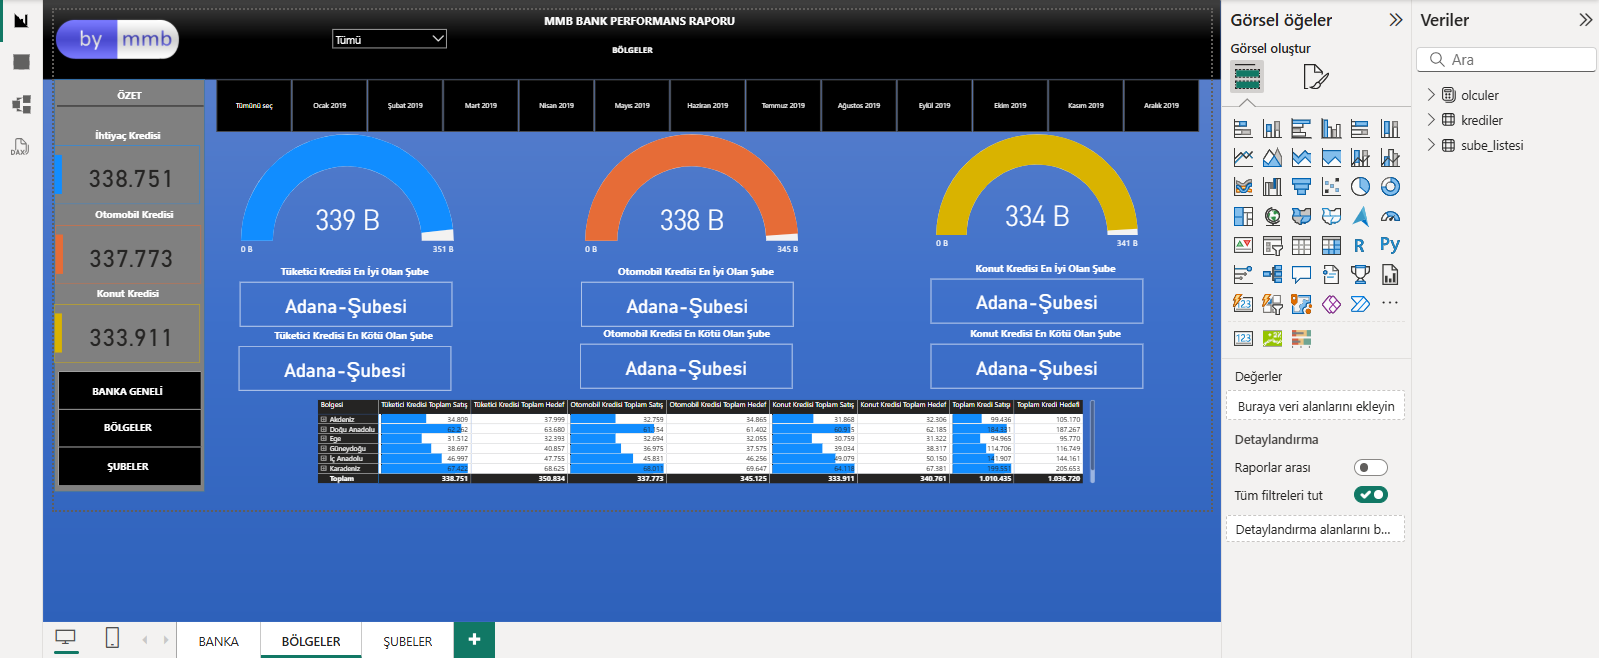

What the dashboard file says about the page in this screenshot:
{"tool":"powerbi","page":{"name":"BÖLGELER","canvas":[2200,950],"ordinal":1},"visuals":[{"type":"textbox","box":[909.8,0,406.4,46.6],"z":0},{"type":"textbox","box":[1719.8,473,332.2,37.3],"z":0,"group":"g9"},{"type":"textbox","box":[406.3,478.4,332.2,37.3],"z":0,"group":"g4"},{"type":"textbox","box":[1054.9,478.4,332.2,37.3],"z":0,"group":"g7"},{"type":"textbox","box":[1001.6,597.1,401.2,37.4],"z":0,"group":"g6"},{"type":"textbox","box":[1719.8,597.3,332.2,37.3],"z":0,"group":"g8"},{"type":"textbox","box":[403.6,600,332.2,37.3],"z":0,"group":"g5"},{"type":"textbox","box":[1029.1,59.7,143.6,33.6],"z":1000},{"type":"card","fields":{"Values":["Min(sube_listesi.Sube Adı)"]},"box":[1667.6,509.9,403.8,85.1],"z":1000,"group":"g9"},{"type":"card","fields":{"Values":["Min(sube_listesi.Sube Adı)"]},"box":[354.1,515.3,403.8,85.1],"z":1000,"group":"g4"},{"type":"card","fields":{"Values":["Min(sube_listesi.Sube Adı)"]},"box":[1002.7,515.3,403.8,85.1],"z":1000,"group":"g7"},{"type":"card","fields":{"Values":["Min(sube_listesi.Sube Adı)"]},"box":[1000,634.2,403.8,85.1],"z":1000,"group":"g6"},{"type":"card","fields":{"Values":["Min(sube_listesi.Sube Adı)"]},"box":[1667.6,634.2,403.8,85.1],"z":1000,"group":"g8"},{"type":"card","fields":{"Values":["Min(sube_listesi.Sube Adı)"]},"box":[351.4,636.9,403.8,85.1],"z":1000,"group":"g5"},{"type":"shape","box":[0,131,286.5,818.7],"z":2000},{"type":"textbox","box":[93.4,143.4,100,38.3],"z":3000},{"type":"shape","box":[5.1,176.3,278,13.6],"z":4000},{"type":"group","id":"g1","title":"Grup 1","box":[0,220.3,278,150.8],"z":5000},{"type":"shape","box":[0,257.6,277.8,111.9],"z":5000,"group":"g1"},{"type":"shape","box":[1.7,408.5,277.8,111.9],"z":5000,"group":"g3"},{"type":"shape","box":[0,557.6,277.8,111.9],"z":5000,"group":"g2"},{"type":"shape","box":[1.9,276.2,13.1,74.6],"z":6000,"group":"g1"},{"type":"shape","box":[3.6,427,13.1,74.6],"z":6000,"group":"g3"},{"type":"group","id":"g2","title":"Grup 2","box":[0,520.3,278,150.8],"z":6000},{"type":"shape","box":[1.9,576.2,13.1,74.6],"z":6000,"group":"g2"},{"type":"textbox","box":[63.4,220.3,152.9,37.3],"z":7000,"group":"g1"},{"type":"group","id":"g3","title":"Grup 3","box":[1.7,370.9,277.8,149.5],"z":7000},{"type":"textbox","box":[66.6,370.9,169.5,37.3],"z":7000,"group":"g3"},{"type":"textbox","box":[63.4,520.3,152.9,37.3],"z":7000,"group":"g2"},{"type":"shape","box":[7.5,686.1,272.2,72.7],"z":8000},{"type":"shape","box":[7.5,758.8,272.2,72.7],"z":9000},{"type":"shape","box":[7.5,831.5,272.2,74.6],"z":10000},{"type":"textbox","box":[67.1,706.6,152.9,35.4],"z":11000},{"type":"textbox","box":[63.4,777.4,152.9,35.4],"z":12000},{"type":"textbox","box":[63.4,850.1,152.9,39.2],"z":13000},{"type":"slicer","fields":{"Values":["krediler.Ay"]},"box":[282.8,124.8,1917.2,113.1],"z":14000},{"type":"card","fields":{"Values":["olculer.Tüketici Kredisi Toplam Satış"]},"box":[25.4,264.4,242.4,101.7],"z":15000},{"type":"card","fields":{"Values":["olculer.Konut Kredisi Toplam Satış"]},"box":[25.4,566.1,242.4,101.7],"z":16000},{"type":"card","fields":{"Values":["olculer.Otomobil Kredisi Toplam Satış"]},"box":[25.4,415.3,242.4,101.7],"z":17000},{"type":"slicer","fields":{"Values":["sube_listesi.Bolgesi"]},"box":[519.7,25.4,237.2,50.7],"z":18000},{"type":"gauge","fields":{"Y":["olculer.Tüketici Kredisi Toplam Satış"],"MaxValue":["olculer.Tüketici Kredisi Toplam Hedef"]},"box":[321.6,232.4,473,243.2],"z":19000},{"type":"gauge","fields":{"Y":["olculer.Otomobil Kredisi Toplam Satış"],"MaxValue":["olculer.Otomobil Kredisi Toplam Hedef"]},"box":[973,232.4,481.1,243.2],"z":20000},{"type":"gauge","fields":{"Y":["olculer.Konut Kredisi Toplam Satış"],"MaxValue":["olculer.Konut Kredisi Toplam Hedef"]},"box":[1646,232.4,448.7,232.4],"z":21000},{"type":"group","id":"g4","title":"Grup 4","box":[354.1,478.4,402.7,121.6],"z":22000},{"type":"group","id":"g5","title":"Grup 4","box":[351.4,600,405.4,124.3],"z":23000},{"type":"group","id":"g6","title":"Grup 4","box":[1000,597.1,403.8,122.2],"z":24000},{"type":"group","id":"g7","title":"Grup 4","box":[1002.7,478.4,402.7,121.6],"z":25000},{"type":"group","id":"g8","title":"Grup 4","box":[1667.6,597.3,402.7,124.3],"z":26000},{"type":"group","id":"g9","title":"Grup 4","box":[1667.6,473,405.4,121.6],"z":27000},{"type":"pivotTable","fields":{"Rows":["sube_listesi.Bolgesi","sube_listesi.Sube Adı"],"Values":["olculer.Tüketici Kredisi Toplam Satış","olculer.Tüketici Kredisi Toplam Hedef","olculer.Otomobil Kredisi Toplam Satış","olculer.Otomobil Kredisi Toplam Hedef","olculer.Konut Kredisi Toplam Satış","olculer.Konut Kredisi Toplam Hedef","olculer.Toplam Kredi Satışı","olculer.Toplam Kredi  Hedefi"]},"box":[497.9,737.3,1487.3,168.1],"z":28000}]}

Visuals, with their boxes on the page's 2200x950 design canvas (x1, y1, x2, y2). These are canvas units, not pixel positions in the 1599x658 screenshot, which may show the page scaled, cropped or inside an application window:
textbox: (left=910, top=0, right=1316, bottom=47)
textbox: (left=1720, top=473, right=2052, bottom=510)
textbox: (left=406, top=478, right=738, bottom=516)
textbox: (left=1055, top=478, right=1387, bottom=516)
textbox: (left=1002, top=597, right=1403, bottom=634)
textbox: (left=1720, top=597, right=2052, bottom=635)
textbox: (left=404, top=600, right=736, bottom=637)
textbox: (left=1029, top=60, right=1173, bottom=93)
card - Min(sube_listesi.Sube Adı): (left=1668, top=510, right=2071, bottom=595)
card - Min(sube_listesi.Sube Adı): (left=354, top=515, right=758, bottom=600)
card - Min(sube_listesi.Sube Adı): (left=1003, top=515, right=1406, bottom=600)
card - Min(sube_listesi.Sube Adı): (left=1000, top=634, right=1404, bottom=719)
card - Min(sube_listesi.Sube Adı): (left=1668, top=634, right=2071, bottom=719)
card - Min(sube_listesi.Sube Adı): (left=351, top=637, right=755, bottom=722)
shape: (left=0, top=131, right=286, bottom=950)
textbox: (left=93, top=143, right=193, bottom=182)
shape: (left=5, top=176, right=283, bottom=190)
"Grup 1" group: (left=0, top=220, right=278, bottom=371)
shape: (left=0, top=258, right=278, bottom=370)
shape: (left=2, top=408, right=280, bottom=520)
shape: (left=0, top=558, right=278, bottom=670)
shape: (left=2, top=276, right=15, bottom=351)
shape: (left=4, top=427, right=17, bottom=502)
"Grup 2" group: (left=0, top=520, right=278, bottom=671)
shape: (left=2, top=576, right=15, bottom=651)
textbox: (left=63, top=220, right=216, bottom=258)
"Grup 3" group: (left=2, top=371, right=280, bottom=520)
textbox: (left=67, top=371, right=236, bottom=408)
textbox: (left=63, top=520, right=216, bottom=558)
shape: (left=8, top=686, right=280, bottom=759)
shape: (left=8, top=759, right=280, bottom=832)
shape: (left=8, top=832, right=280, bottom=906)
textbox: (left=67, top=707, right=220, bottom=742)
textbox: (left=63, top=777, right=216, bottom=813)
textbox: (left=63, top=850, right=216, bottom=889)
slicer - krediler.Ay: (left=283, top=125, right=2200, bottom=238)
card - olculer.Tüketici Kredisi Toplam Satış: (left=25, top=264, right=268, bottom=366)
card - olculer.Konut Kredisi Toplam Satış: (left=25, top=566, right=268, bottom=668)
card - olculer.Otomobil Kredisi Toplam Satış: (left=25, top=415, right=268, bottom=517)
slicer - sube_listesi.Bolgesi: (left=520, top=25, right=757, bottom=76)
gauge - olculer.Tüketici Kredisi Toplam Satış x olculer.Tüketici Kredisi Toplam Hedef: (left=322, top=232, right=795, bottom=476)
gauge - olculer.Otomobil Kredisi Toplam Satış x olculer.Otomobil Kredisi Toplam Hedef: (left=973, top=232, right=1454, bottom=476)
gauge - olculer.Konut Kredisi Toplam Satış x olculer.Konut Kredisi Toplam Hedef: (left=1646, top=232, right=2095, bottom=465)
"Grup 4" group: (left=354, top=478, right=757, bottom=600)
"Grup 4" group: (left=351, top=600, right=757, bottom=724)
"Grup 4" group: (left=1000, top=597, right=1404, bottom=719)
"Grup 4" group: (left=1003, top=478, right=1405, bottom=600)
"Grup 4" group: (left=1668, top=597, right=2070, bottom=722)
"Grup 4" group: (left=1668, top=473, right=2073, bottom=595)
pivotTable - sube_listesi.Bolgesi x sube_listesi.Sube Adı: (left=498, top=737, right=1985, bottom=905)
